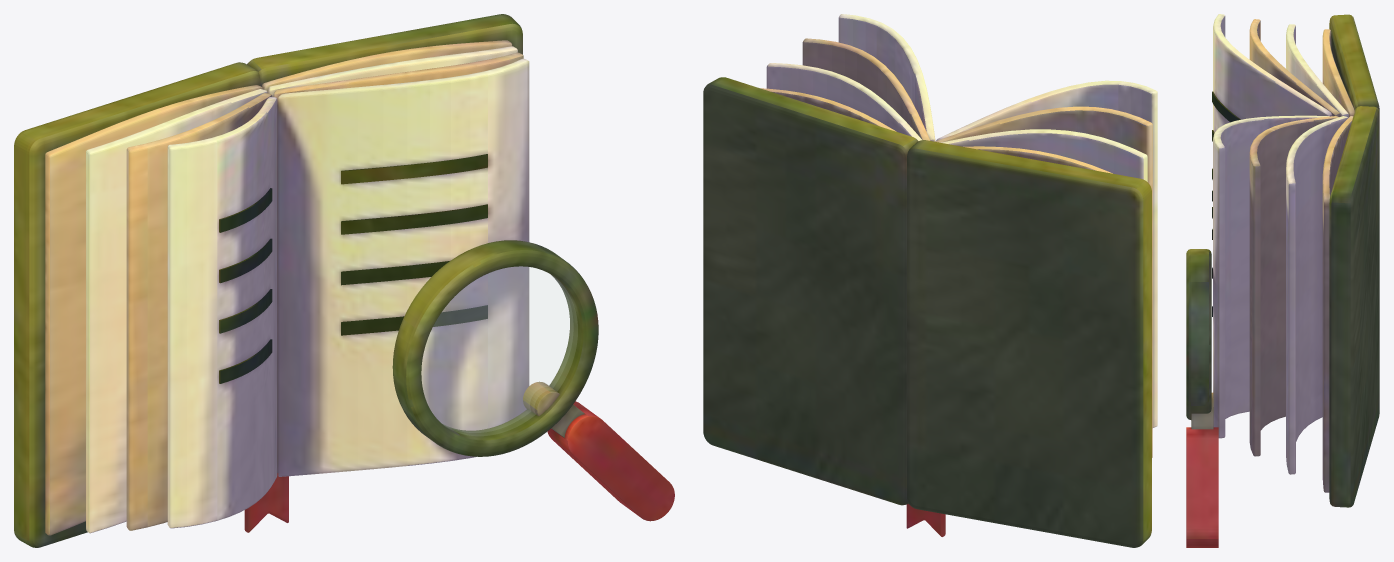
The model's file is search.glb.
3 views of the same model, side by side, from view 1: azimuth 30°, elevation 25°; view 2: azimuth 150°, elevation 25°; view 3: azimuth 270°, elevation 25° (orthographic). The views are drawn at different scales.
Parts seen in each view (by area): view 1: Book cover, Optical lens; view 2: Book cover; view 3: Book cover.
Part boxes in pixels (bbox=[...]): Book cover: bbox=[14, 14, 674, 547]; Optical lens: bbox=[421, 266, 573, 432]; Book cover: bbox=[703, 14, 1157, 547]; Book cover: bbox=[1186, 14, 1379, 547].
Bounding box in the file's own units: 2.42 × 2.02 × 0.9556.
2 materials, 1 textured.
